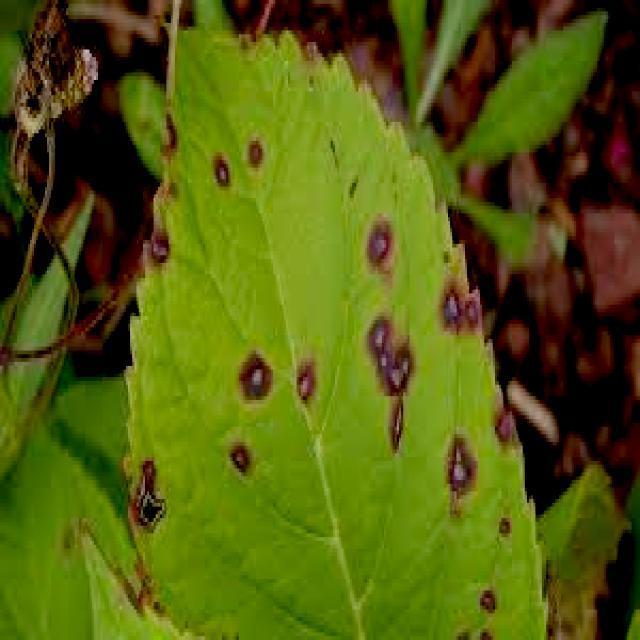Bercak Daun Serkospora: (112, 8, 550, 640)
